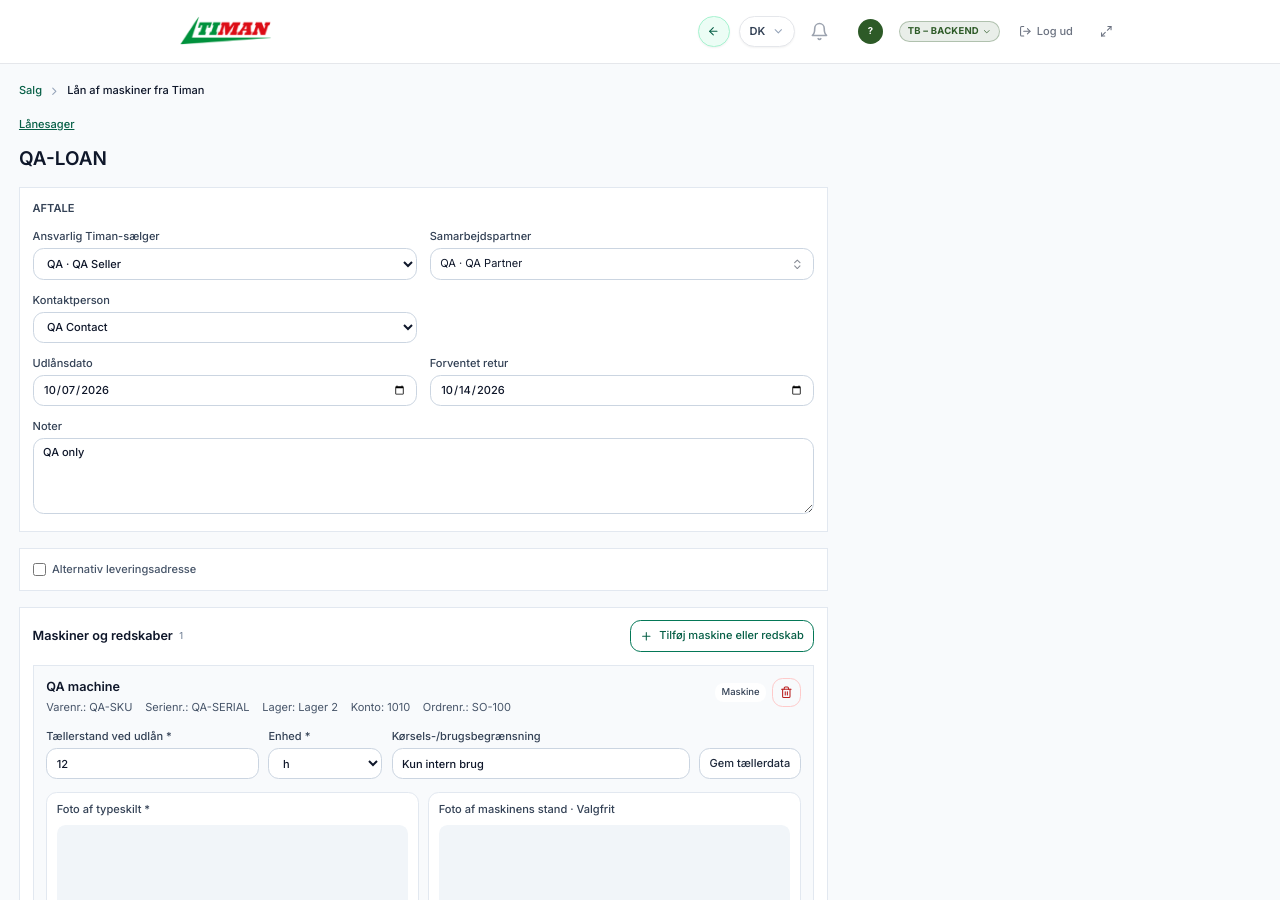
Loan form interactions › keeps selected assets visible before the stock picker and hides the long picker by default
This screenshot has width=1280, height=900.
Check: the heading "QA-LOAN" is shown, box [19,146,107,172]
Check: the text "QA machine" is shown, box [46,679,120,694]
Click the button "Tilføj maskine eller redskab".
click(722, 636)  # box [630,620,814,652]
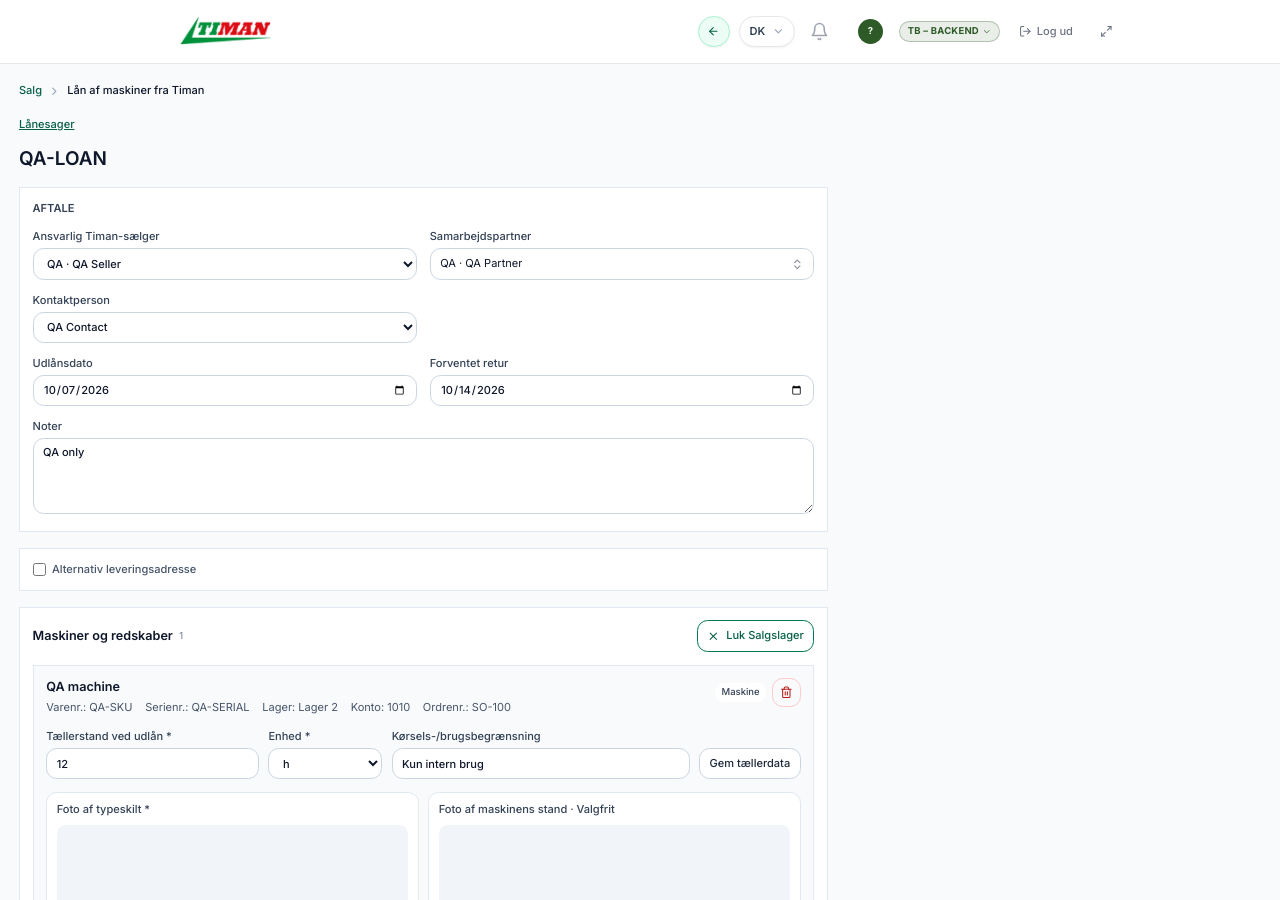
Check: the button "Luk Salgslager" is expanded, box [697,620,814,652]
